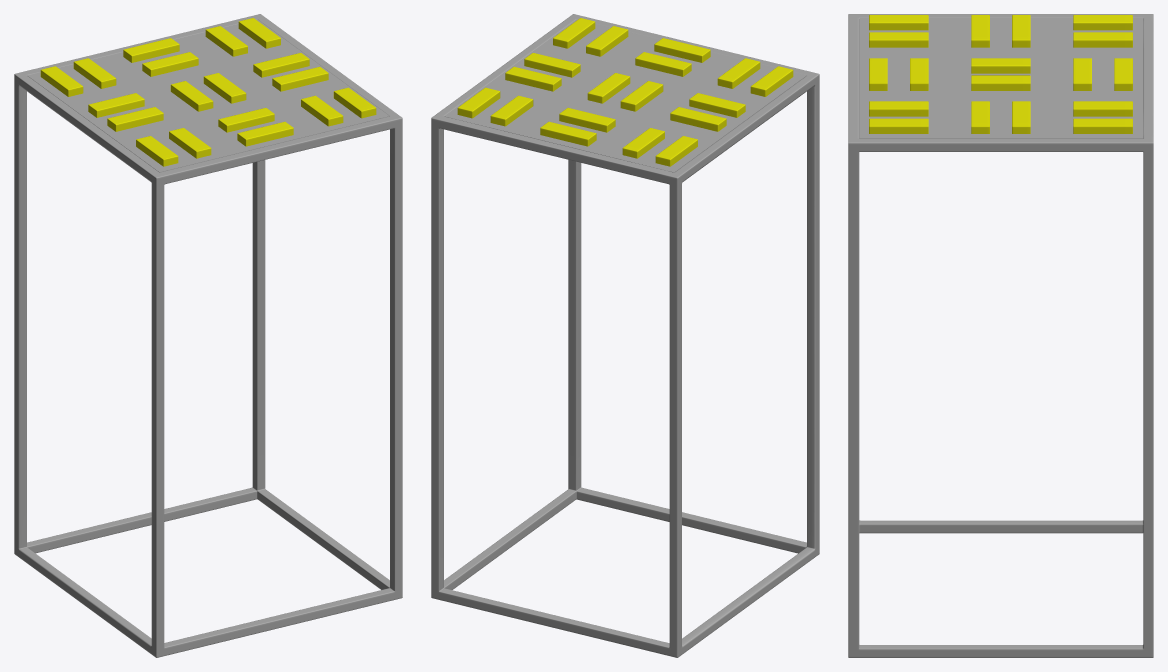
The model's file is Feet_SteelFrame_04.gltf.
3 renders of one model, left to right at view 1: azimuth 30°, elevation 25°; view 2: azimuth 150°, elevation 25°; view 3: azimuth 270°, elevation 25°, orthographic. The views are drawn at different scales.
Visible parts, largest first — view 1: polySurface6, polySurface7, base_top_025, base_top_021, base_top_030, base_top_035, base_top_028, base_top_026, base_top_027, base_top_029, base_top_037, base_top_036 (+8 smaller); view 2: polySurface6, polySurface7, base_top_030, base_top_035, base_top_029, base_top_026, base_top_021, base_top_025, base_top_028, base_top_027, base_top_022, base_top_036 (+8 smaller); view 3: polySurface6, polySurface7, base_top_031, base_top_032, base_top_020, base_top_024, base_top_023, base_top_034, base_top_036, base_top_033, base_top_037, base_top_022 (+8 smaller).
Part boxes in pixels (x1=…): polySurface6: x1=14, y1=14, x2=402, y2=657; polySurface7: x1=27, y1=19, x2=388, y2=172; base_top_025: x1=237, y1=121, x2=293, y2=146; base_top_021: x1=107, y1=107, x2=163, y2=131; base_top_030: x1=123, y1=38, x2=179, y2=62; base_top_035: x1=142, y1=52, x2=198, y2=76; base_top_028: x1=253, y1=53, x2=309, y2=77; base_top_026: x1=218, y1=108, x2=274, y2=132; base_top_027: x1=272, y1=66, x2=328, y2=91; base_top_029: x1=88, y1=93, x2=144, y2=117; base_top_037: x1=333, y1=87, x2=376, y2=118; base_top_036: x1=203, y1=73, x2=246, y2=103; polySurface6: x1=431, y1=14, x2=819, y2=657; polySurface7: x1=444, y1=19, x2=805, y2=172; base_top_030: x1=540, y1=121, x2=596, y2=146; base_top_035: x1=559, y1=107, x2=615, y2=132; base_top_029: x1=670, y1=107, x2=726, y2=131; base_top_026: x1=635, y1=52, x2=691, y2=76; base_top_021: x1=689, y1=93, x2=745, y2=117; base_top_025: x1=654, y1=38, x2=710, y2=62; base_top_028: x1=505, y1=66, x2=561, y2=91; base_top_027: x1=524, y1=53, x2=580, y2=77; base_top_022: x1=457, y1=87, x2=500, y2=118; base_top_036: x1=587, y1=73, x2=630, y2=103; polySurface6: x1=848, y1=14, x2=1153, y2=657; polySurface7: x1=859, y1=18, x2=1143, y2=138; base_top_031: x1=1073, y1=32, x2=1132, y2=47; base_top_032: x1=869, y1=32, x2=928, y2=47; base_top_020: x1=869, y1=15, x2=928, y2=30; base_top_024: x1=1073, y1=101, x2=1132, y2=116; base_top_023: x1=971, y1=58, x2=1030, y2=73; base_top_034: x1=1073, y1=15, x2=1132, y2=30; base_top_036: x1=971, y1=75, x2=1030, y2=90; base_top_033: x1=869, y1=101, x2=928, y2=116; base_top_037: x1=869, y1=118, x2=928, y2=133; base_top_022: x1=1073, y1=118, x2=1132, y2=133.
Bounding box in the file's own units: 0.36 × 0.68 × 0.36.
2 materials, 1 textured.
